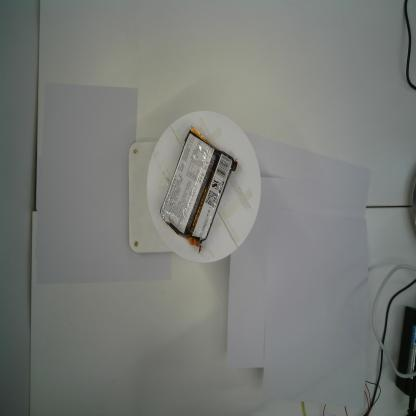Dessert: (157, 122, 241, 256)
